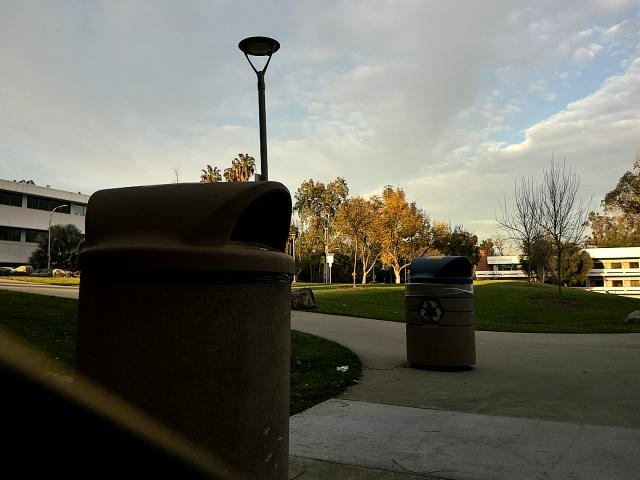trashcan: (83, 188, 296, 480), (401, 252, 476, 374)
